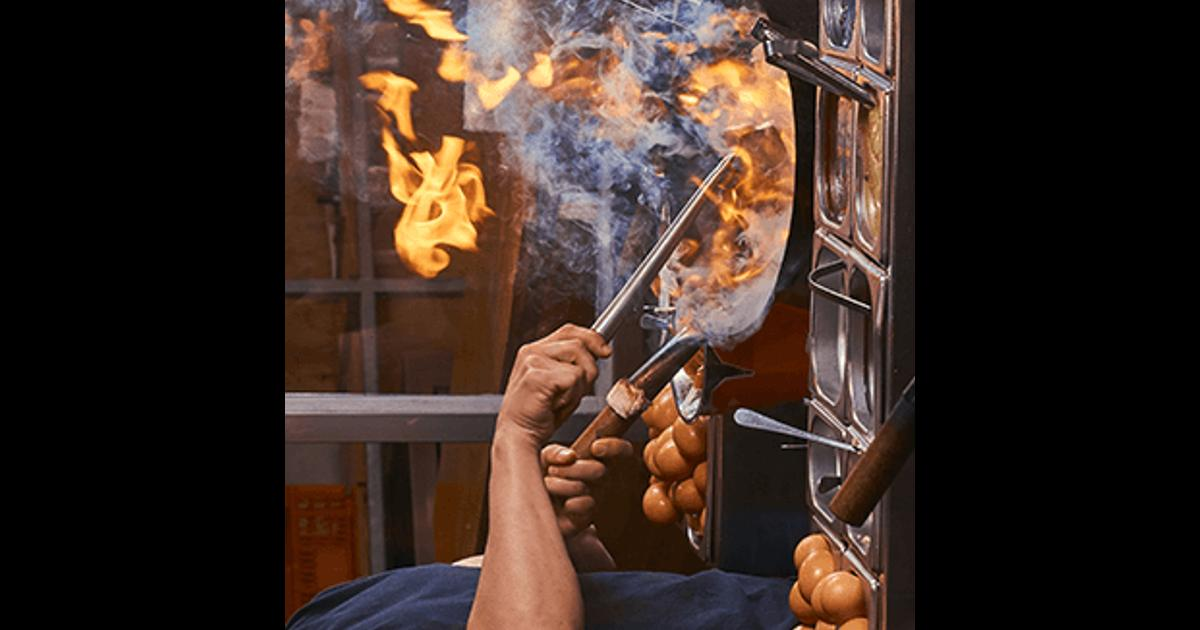controlled_fire: (333, 0, 848, 406)
